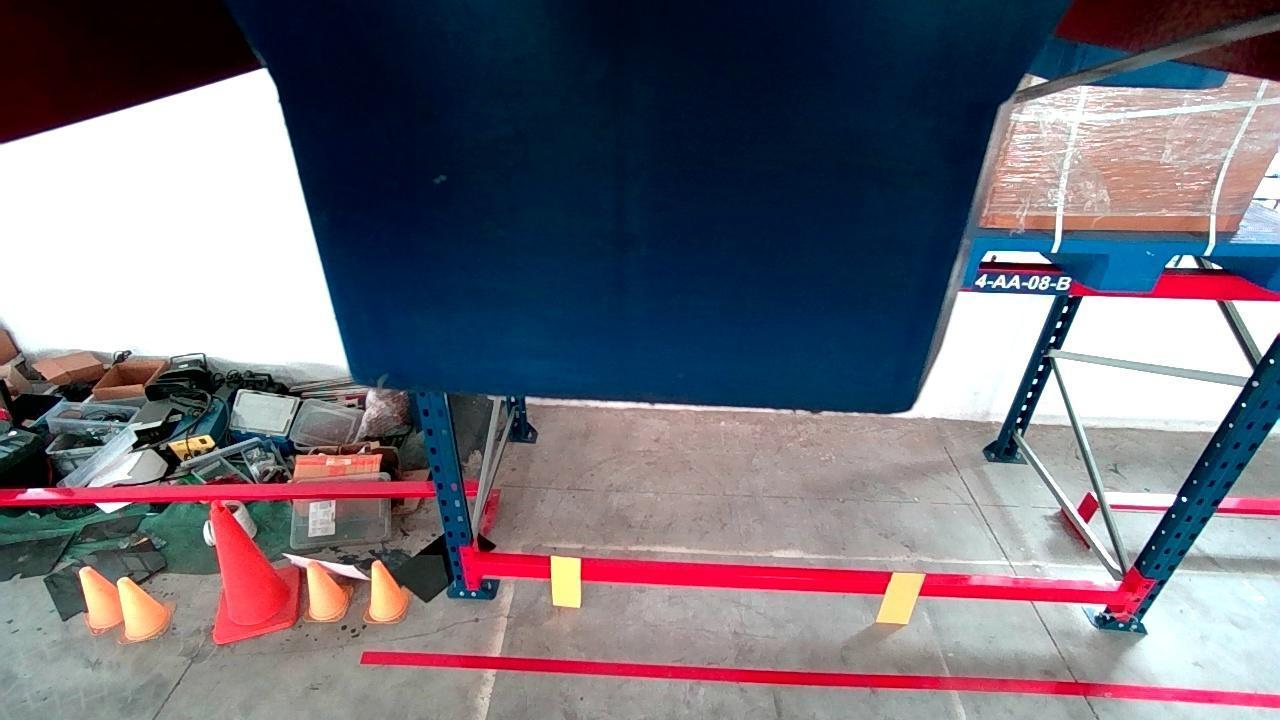h_rack: (477, 551, 1121, 602)
orange_strip: (877, 571, 927, 625), (551, 554, 581, 608)
red_line: (358, 647, 1280, 708)
small_pallet: (961, 229, 1280, 293)
